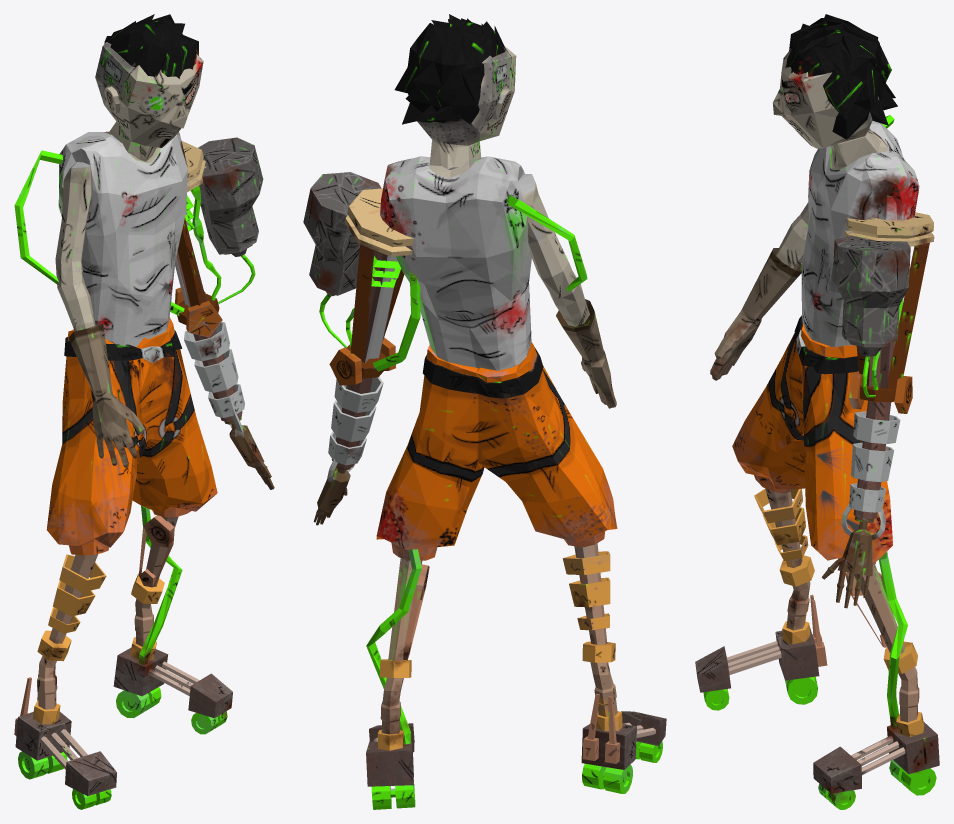
The model's file is CyborgFINALAnimation_000154.obj.
3 views of the same model, side by side, from view 1: azimuth 30°, elevation 25°; view 2: azimuth 150°, elevation 25°; view 3: azimuth 270°, elevation 25° (orthographic). The views are drawn at different scales.
Visible parts, largest first — view 1: CyborgMesh_Cube.002; view 2: CyborgMesh_Cube.002; view 3: CyborgMesh_Cube.002.
Boxes of the visible parts, <box> form: CyborgMesh_Cube.002: <box>14,14,274,809</box>; CyborgMesh_Cube.002: <box>303,14,666,809</box>; CyborgMesh_Cube.002: <box>695,14,939,809</box>.
Bounding box in the file's own units: 3.81 × 9.69 × 2.85.
